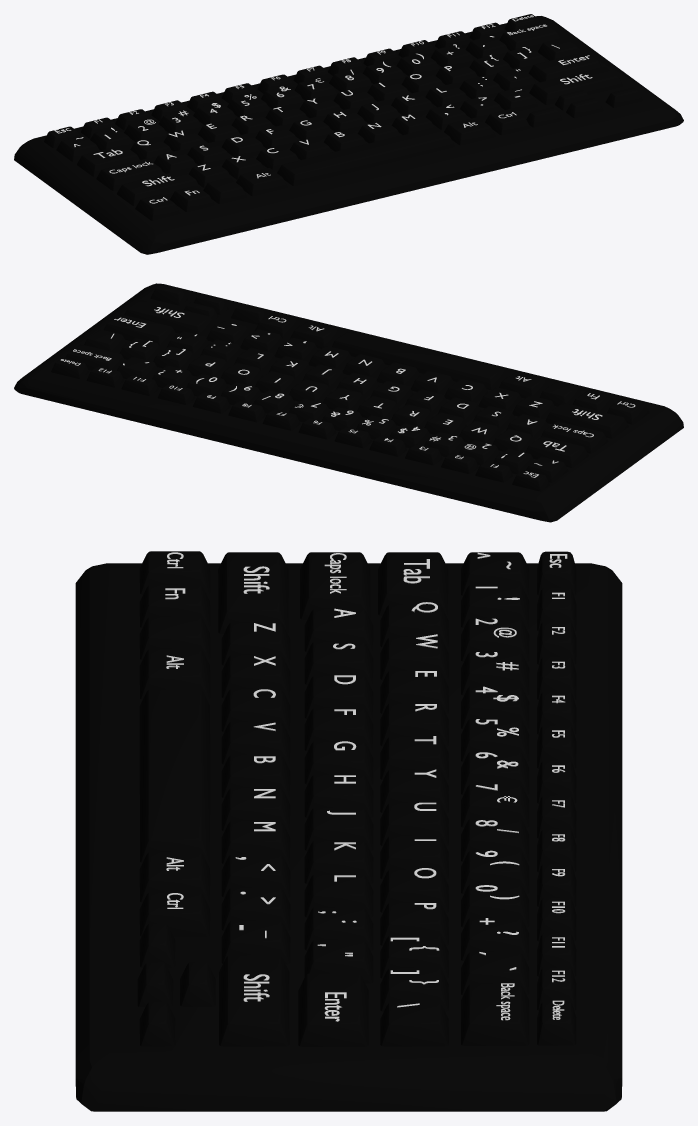
The model's file is KeyboardV3.fbx.
3 views of the same model, one above another, from view 1: azimuth 30°, elevation 25°; view 2: azimuth 150°, elevation 25°; view 3: azimuth 270°, elevation 25° (orthographic). The views are drawn at different scales.
Parts seen in each view (by area): view 1: Board; view 2: Board; view 3: Board.
Boxes of the visible parts, bbox=[...] form: Board: bbox=[14, 14, 683, 254]; Board: bbox=[14, 283, 683, 522]; Board: bbox=[75, 551, 622, 1111].
Size of the model in its own units: 489 by 26.92 by 213.
